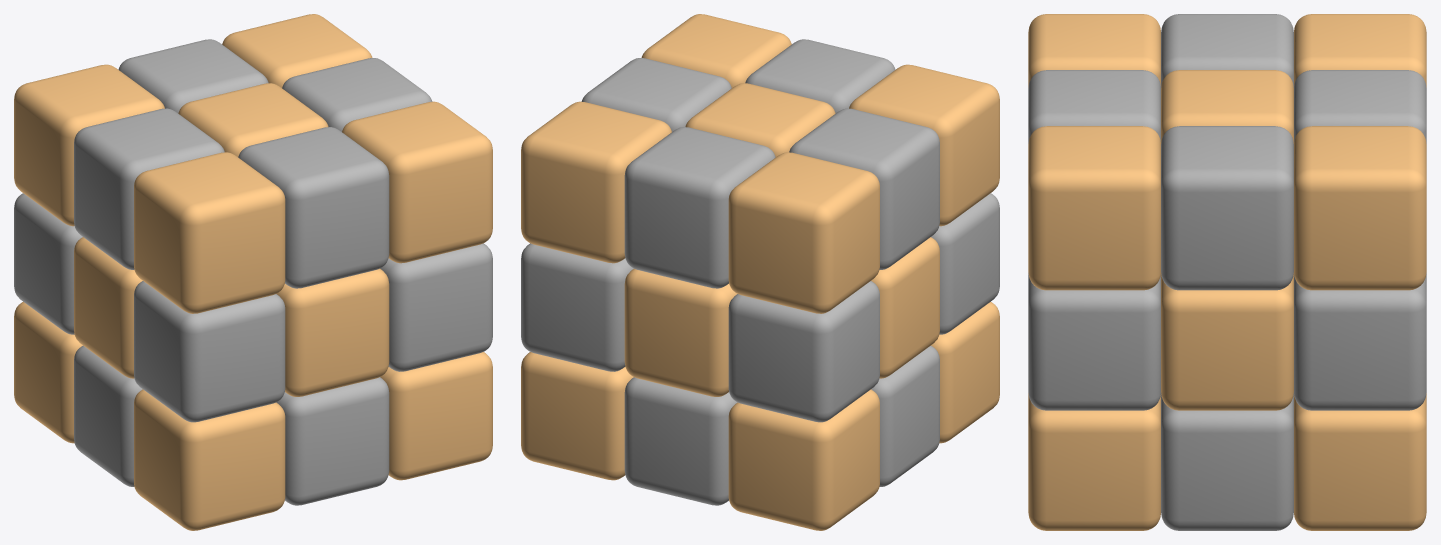
File: rubik-cube-loading-animated-3d-icon-918042144125.glb
3 renders of one model, left to right at view 1: azimuth 30°, elevation 25°; view 2: azimuth 150°, elevation 25°; view 3: azimuth 270°, elevation 25°, orthographic. The views are drawn at different scales.
Visible parts, largest first — view 1: Row 1, Row 2, Row 3; view 2: Row 1, Row 2, Row 3; view 3: Row 1, Row 3, Row 2.
Part boxes in pixels (x1,y1,x2,y2): Row 1: [14, 14, 492, 313]; Row 2: [14, 193, 492, 422]; Row 3: [14, 302, 492, 530]; Row 1: [521, 14, 999, 313]; Row 2: [521, 193, 999, 422]; Row 3: [521, 302, 999, 530]; Row 1: [1028, 14, 1426, 290]; Row 3: [1028, 393, 1426, 530]; Row 2: [1028, 273, 1426, 410].
Bounding box in the file's own units: 1.8 × 1.8 × 1.8.
